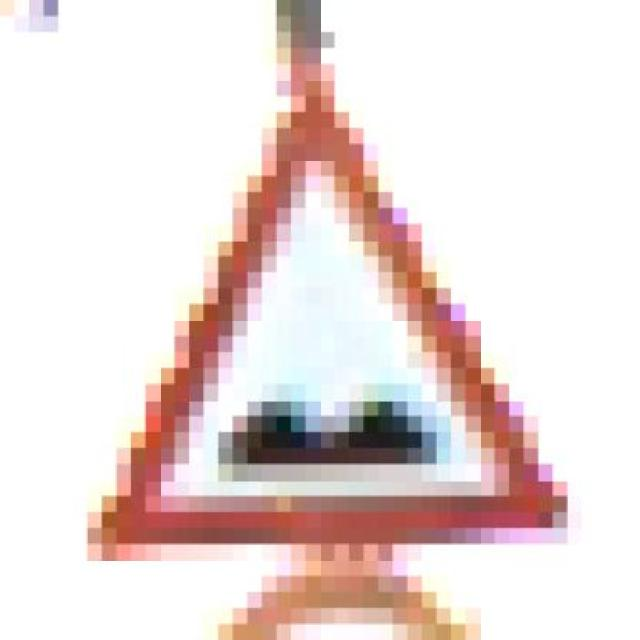Uneven Road: (72, 65, 568, 560)
